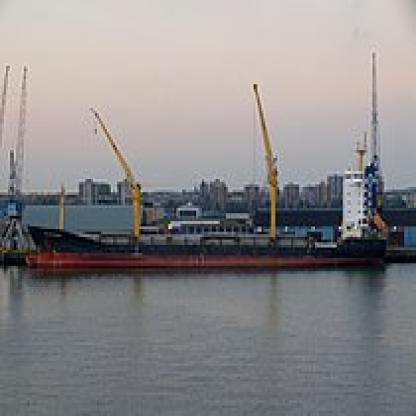Tanker: (18, 121, 396, 277)
